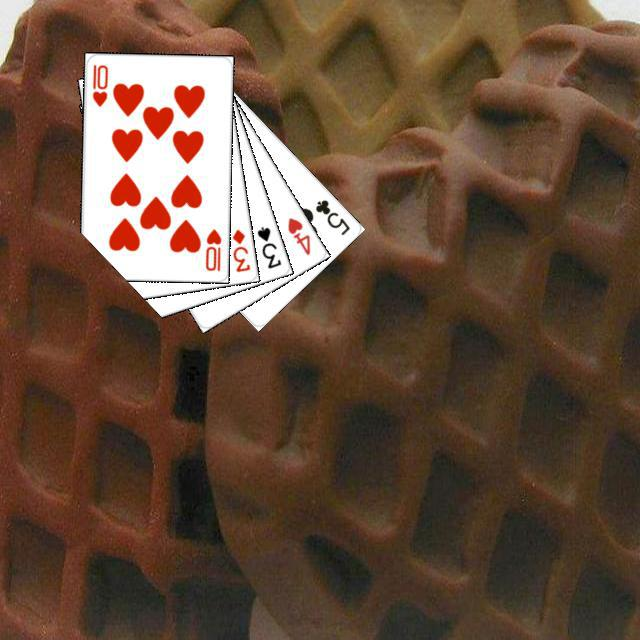10h: (87, 59, 110, 108), (201, 224, 223, 273)
3d: (227, 224, 252, 274)
3s: (252, 221, 283, 270)
4h: (282, 213, 312, 257)
5c: (310, 195, 352, 237)
